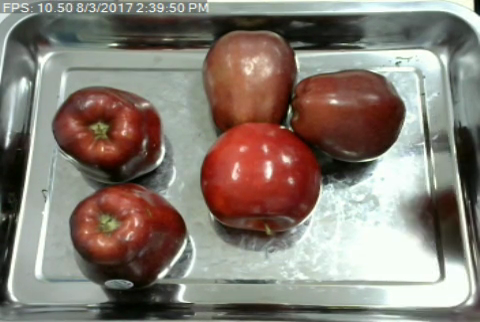Apple: (199, 120, 324, 237), (65, 182, 190, 289), (49, 83, 167, 187), (289, 66, 408, 164), (199, 27, 300, 133)
